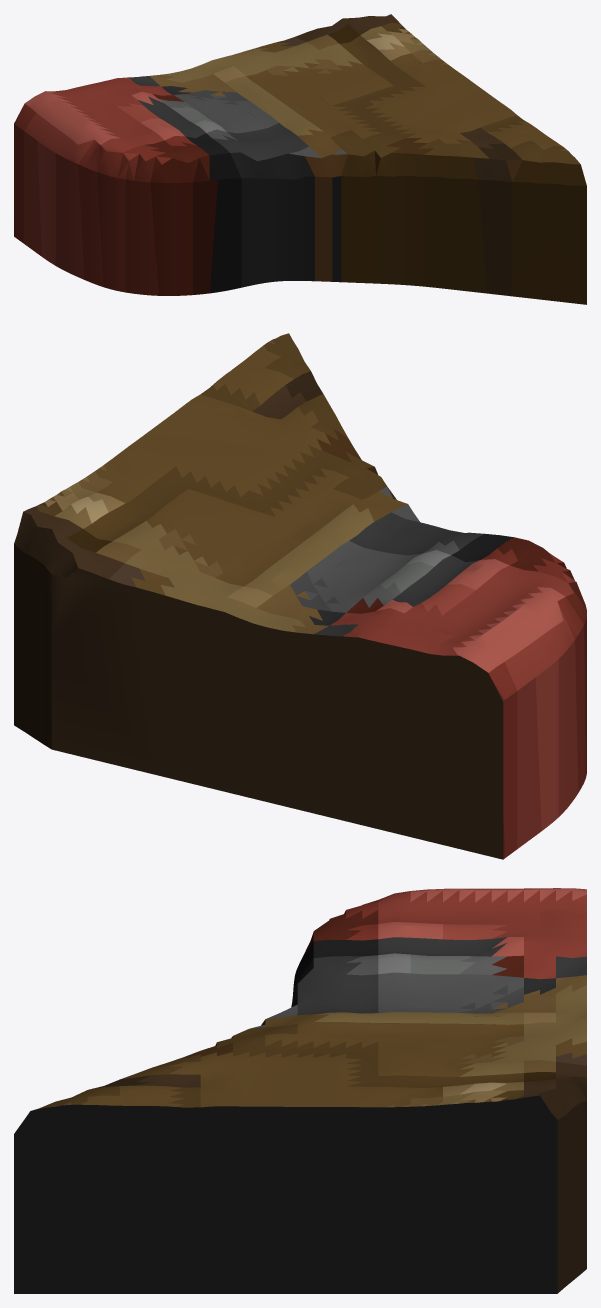
Rendered from tusk_boss_48.glb.
3 renders of one model, top to bottom at view 1: azimuth 30°, elevation 25°; view 2: azimuth 150°, elevation 25°; view 3: azimuth 270°, elevation 25°, orthographic. The views are drawn at different scales.
Visible parts, largest first — view 1: tusk_boss_48_plates; view 2: tusk_boss_48_plates; view 3: tusk_boss_48_plates.
Boxes of the visible parts, x1,y1,x2,y2 form: tusk_boss_48_plates: (14, 14, 586, 304); tusk_boss_48_plates: (14, 333, 586, 859); tusk_boss_48_plates: (14, 888, 586, 1293).
Bounding box in the file's own units: 19.01 × 7.45 × 19.51.
